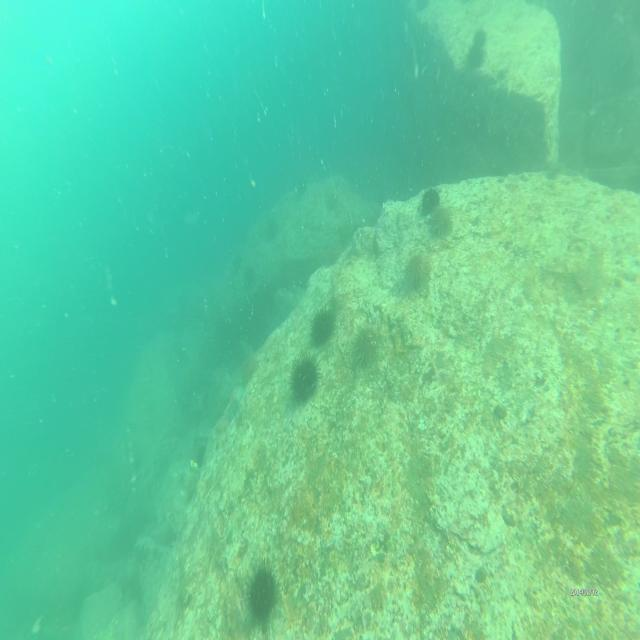echinus: (245, 558, 279, 627), (286, 353, 320, 408), (311, 302, 335, 352), (428, 203, 456, 243), (354, 327, 379, 370), (401, 254, 425, 294), (420, 182, 442, 222), (240, 260, 258, 295), (464, 45, 486, 72), (292, 174, 309, 203), (264, 213, 280, 243), (471, 23, 490, 46), (326, 188, 342, 213)
